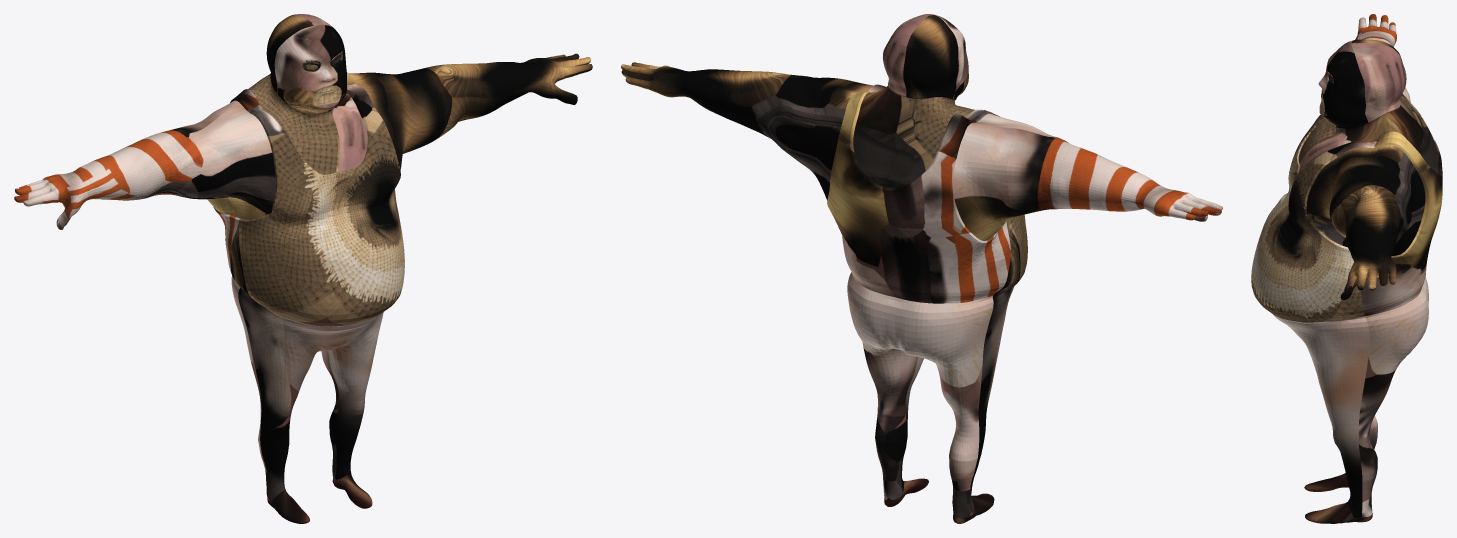
File: ortiz.obj
3 renders of one model, left to right at view 1: azimuth 30°, elevation 25°; view 2: azimuth 150°, elevation 25°; view 3: azimuth 270°, elevation 25°, orthographic. The views are drawn at different scales.
Size of the model in its own units: 5 by 3.95 by 1.48.
